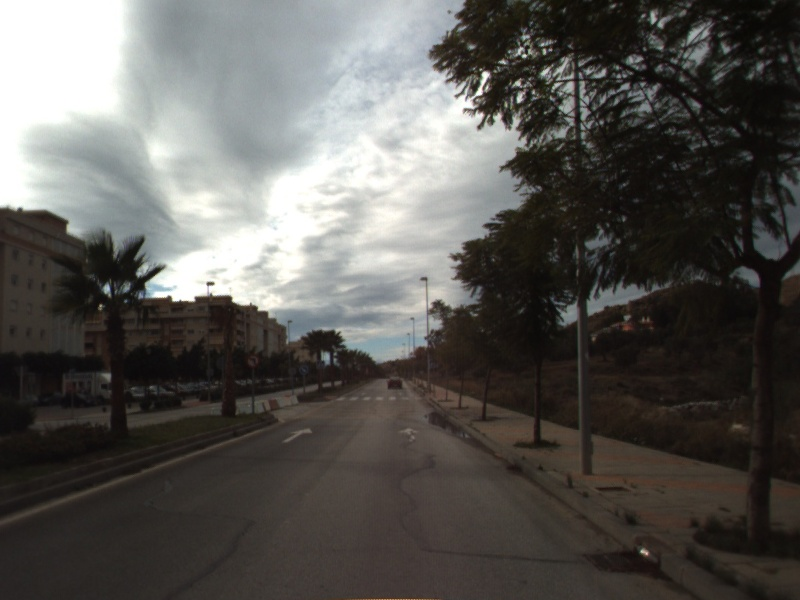STRAIGHT: (279, 426, 315, 445), (396, 425, 422, 445)
